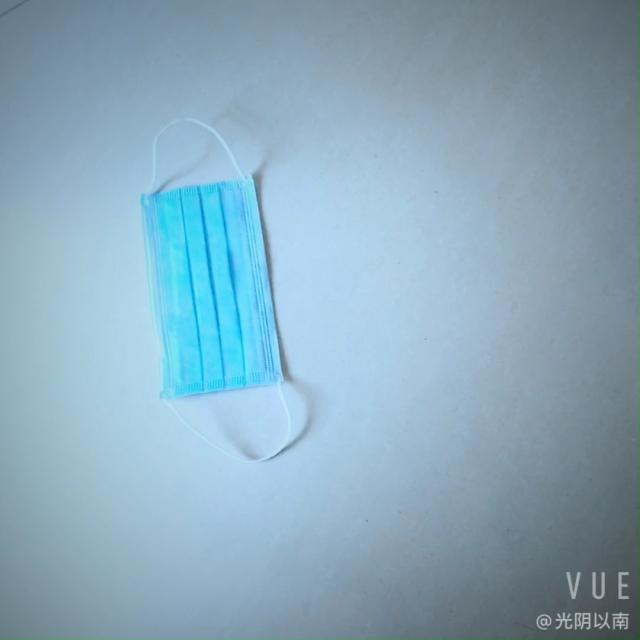face mask: (143, 155, 285, 410)
